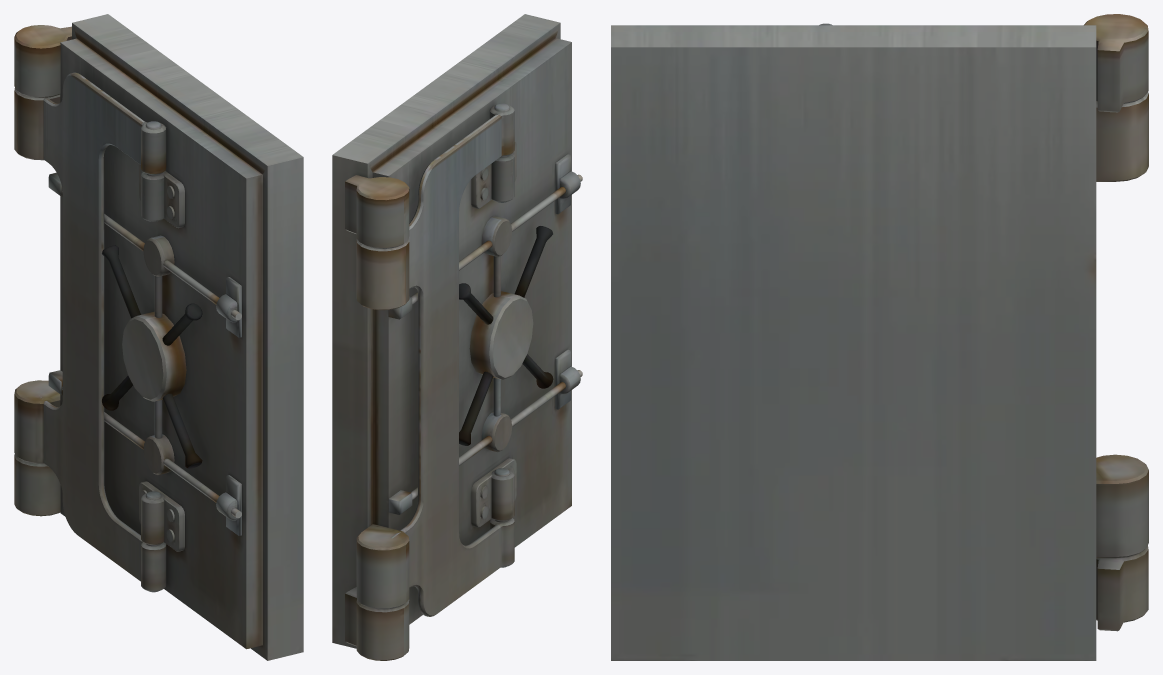
3 views of the same model, side by side, from view 1: azimuth 30°, elevation 25°; view 2: azimuth 150°, elevation 25°; view 3: azimuth 270°, elevation 25° (orthographic). The views are drawn at different scales.
Parts seen in each view (by area): view 1: body0_model0_lod0_mesh0; view 2: body0_model0_lod0_mesh0; view 3: body0_model0_lod0_mesh0.
Boxes of the visible parts, <box> form: body0_model0_lod0_mesh0: <box>14,14,303,660</box>; body0_model0_lod0_mesh0: <box>332,14,582,660</box>; body0_model0_lod0_mesh0: <box>611,14,1148,660</box>.
Bounding box in the file's own units: 25.16 × 144 × 114.
Materials: 1 (1 with a texture image).
